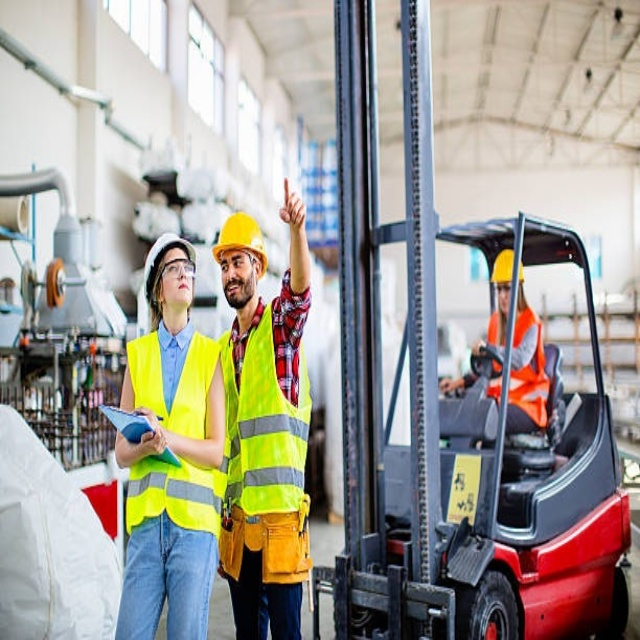Gafas: (157, 256, 196, 278)
Sin_gafas: (216, 254, 246, 275)
Sin_guantes: (278, 174, 311, 229), (139, 422, 172, 463), (438, 369, 463, 395)
Sin_mascara: (172, 278, 192, 300), (225, 279, 242, 303)
